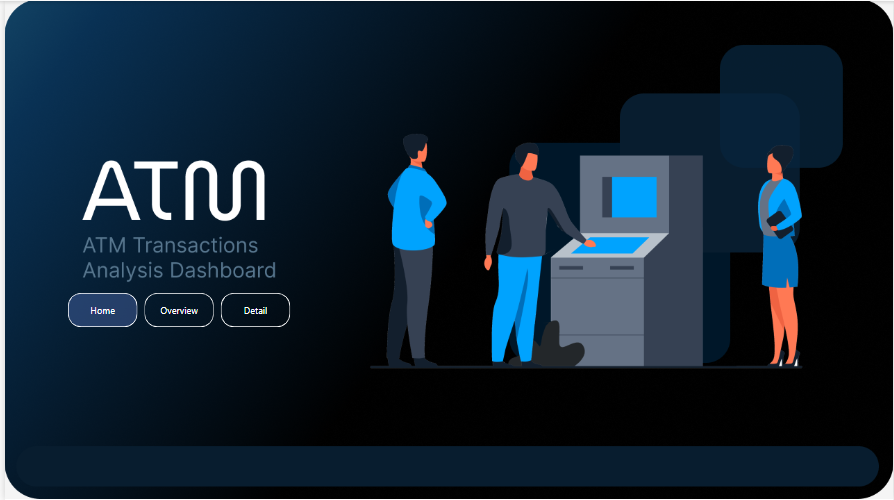

Layout of this report page (visuals, bound fields, positions):
{"tool":"powerbi","page":{"name":"Home","canvas":[1280,720],"ordinal":0},"visuals":[{"type":"pageNavigator","box":[90.5,420.6,322.2,49.2],"z":0}]}

Visuals, with their boxes in screenshot pixels (x1, y1, x2, y2), scaled from the page's 1280x720 canvas onto the 894x500 screenshot:
pageNavigator: select_region(63, 292, 288, 326)
